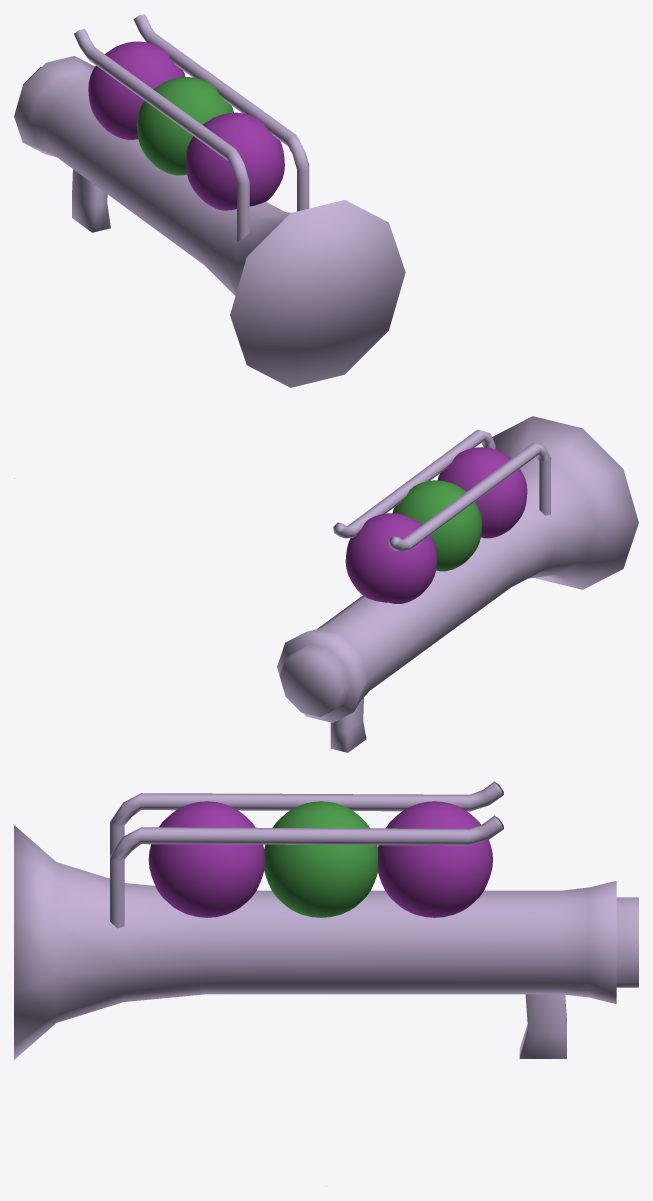
File: M_vaccannon_wip.fbx
The picture shows the model from 3 angles, top to bottom: view 1: azimuth 30°, elevation 25°; view 2: azimuth 150°, elevation 25°; view 3: azimuth 270°, elevation 25°; orthographic projection. The views are drawn at different scales.
Parts seen in each view (by area): view 1: polySurface30, polySurface33, polySurface32, polySurface31; view 2: polySurface30, polySurface31, polySurface33, polySurface32; view 3: polySurface30, polySurface33, polySurface31, polySurface32.
Part boxes in pixels (<box>): polySurface30: <box>14,14,405,387</box>; polySurface33: <box>185,112,284,210</box>; polySurface32: <box>136,77,233,175</box>; polySurface31: <box>88,41,185,139</box>; polySurface30: <box>277,416,638,752</box>; polySurface31: <box>345,513,437,603</box>; polySurface33: <box>437,447,527,538</box>; polySurface32: <box>392,480,482,571</box>; polySurface30: <box>14,781,638,1059</box>; polySurface33: <box>148,801,264,917</box>; polySurface31: <box>378,801,492,917</box>; polySurface32: <box>264,801,377,917</box>.
Size of the model in its own units: 2.75 by 1.05 by 2.34.
